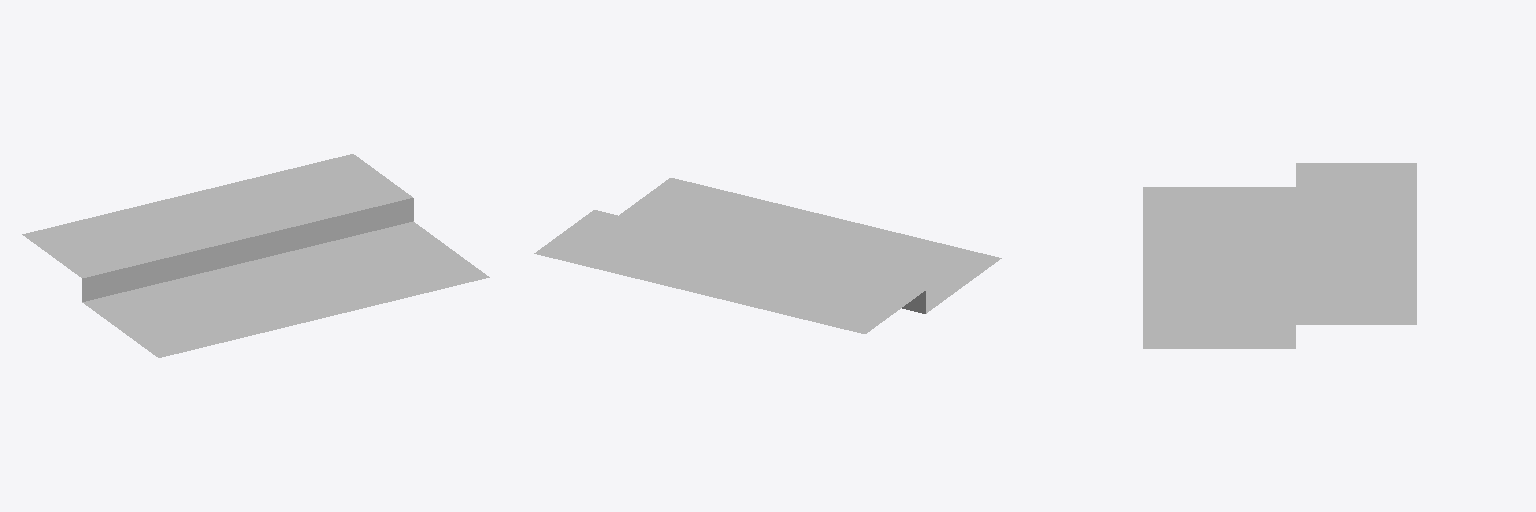
Rendered from port.obj.
3 views of the same model, side by side, from view 1: azimuth 30°, elevation 25°; view 2: azimuth 150°, elevation 25°; view 3: azimuth 270°, elevation 25° (orthographic).
Visible parts, largest first — view 1: port_336.Shape_port_336; view 2: port_336.Shape_port_336; view 3: port_336.Shape_port_336.
Boxes of the visible parts, x1,y1,x2,y2 form: port_336.Shape_port_336: [22, 154, 489, 357]; port_336.Shape_port_336: [534, 178, 1001, 333]; port_336.Shape_port_336: [1143, 163, 1416, 348].
Size of the model in its own units: 127 by 8.68 by 90.52.